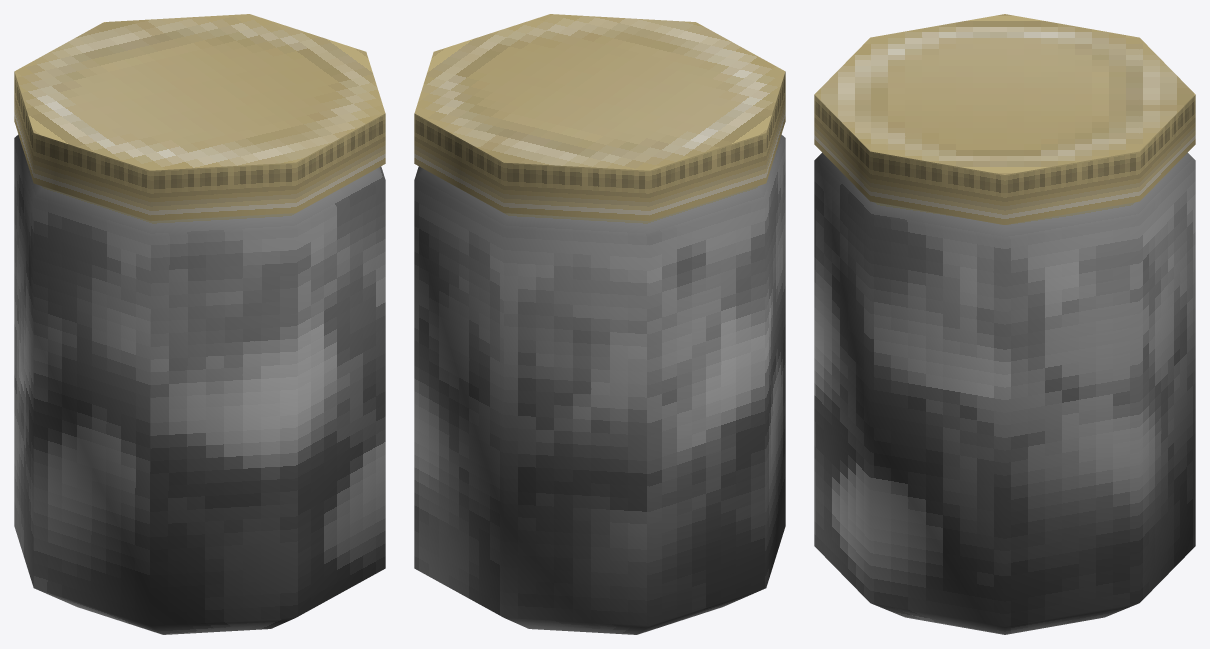
The model's file is DevJarFood.fbx.
3 renders of one model, left to right at view 1: azimuth 30°, elevation 25°; view 2: azimuth 150°, elevation 25°; view 3: azimuth 270°, elevation 25°, orthographic.
Parts seen in each view (by area): view 1: JarFood; view 2: JarFood; view 3: JarFood.
Part boxes in pixels (bbox=[...]): JarFood: bbox=[14, 14, 385, 634]; JarFood: bbox=[414, 14, 785, 634]; JarFood: bbox=[814, 14, 1195, 634].
Size of the model in its own units: 20.73 by 28.85 by 20.73.
